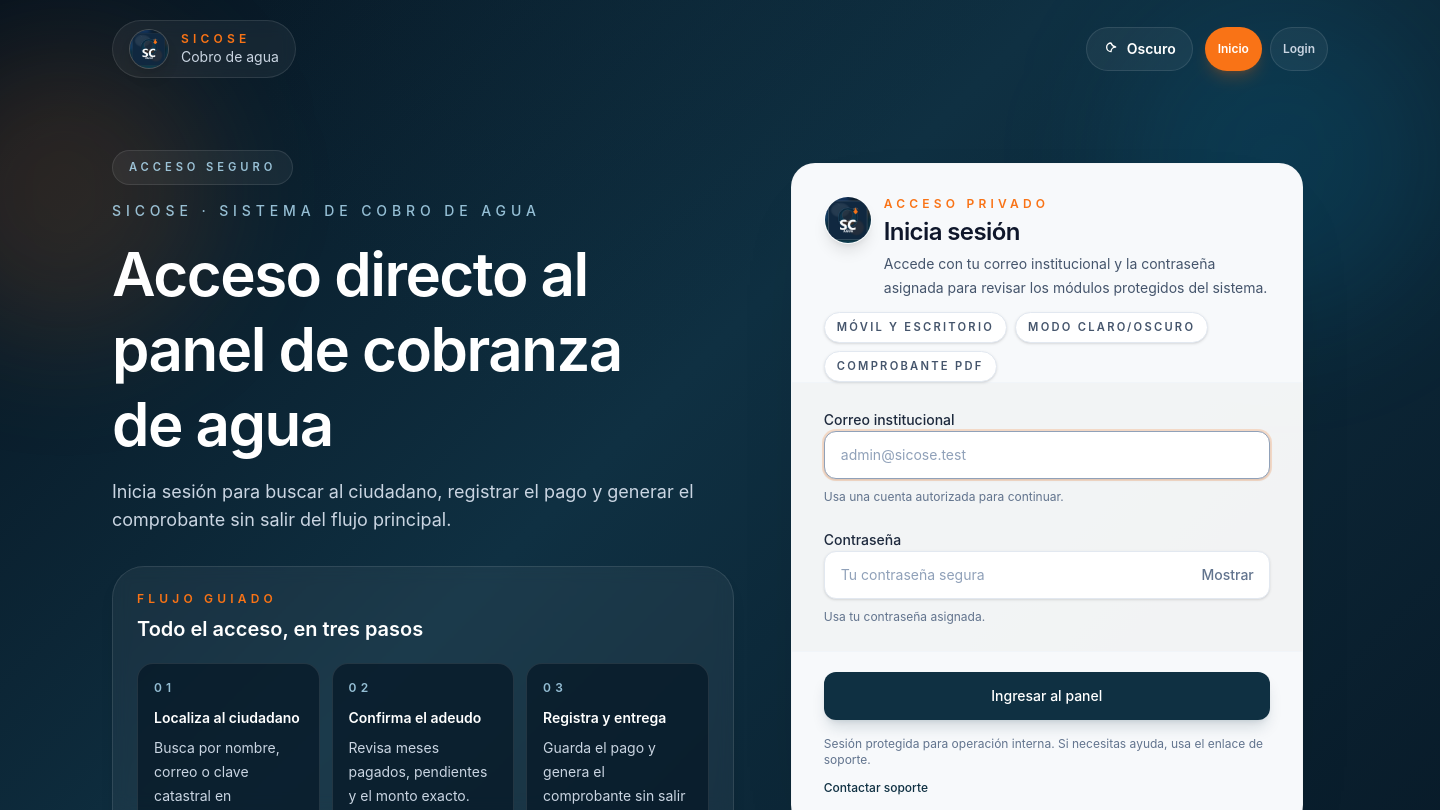
LoginPage › submits credentials and stores the auth session
Type "ADMIN@SICOSE.TEST" into the field labelled "Correo institucional" at (1047,455), box [824, 431, 1270, 479]
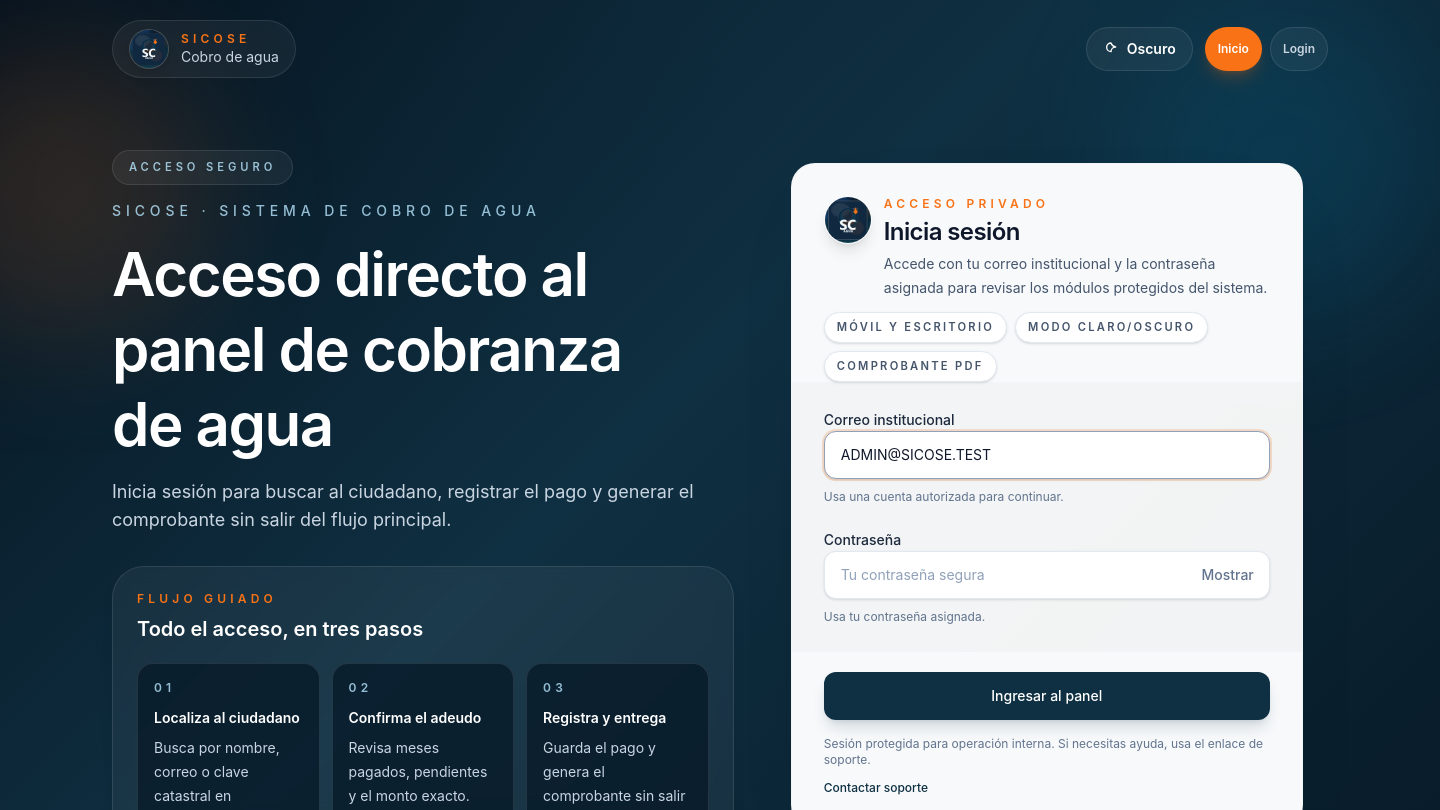
Type "SiCoSe2026!" into the password field labelled "Contraseña" at (1047,575), box [824, 551, 1270, 599]
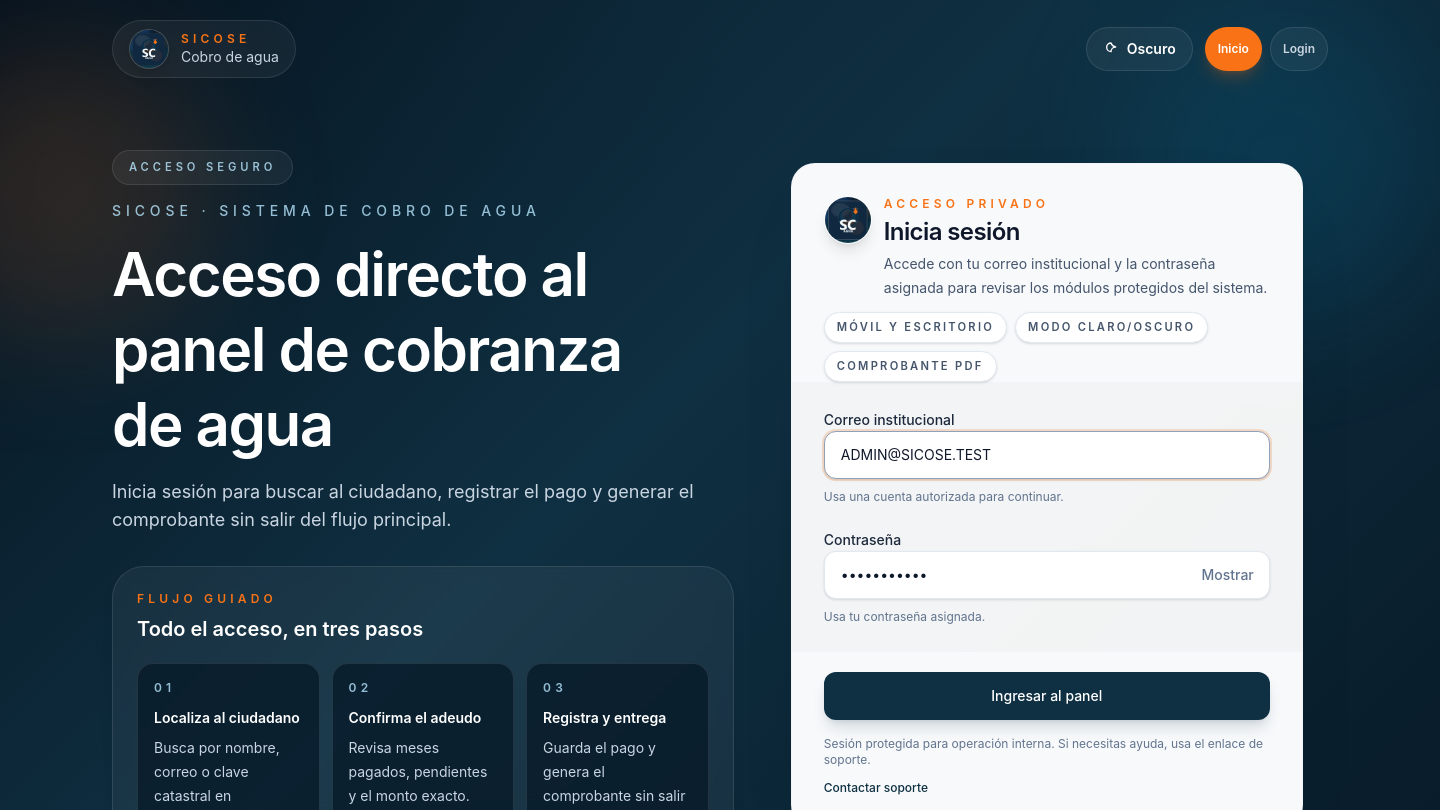
Click the button "Ingresar al panel" at (1047,696), box [824, 672, 1270, 720]
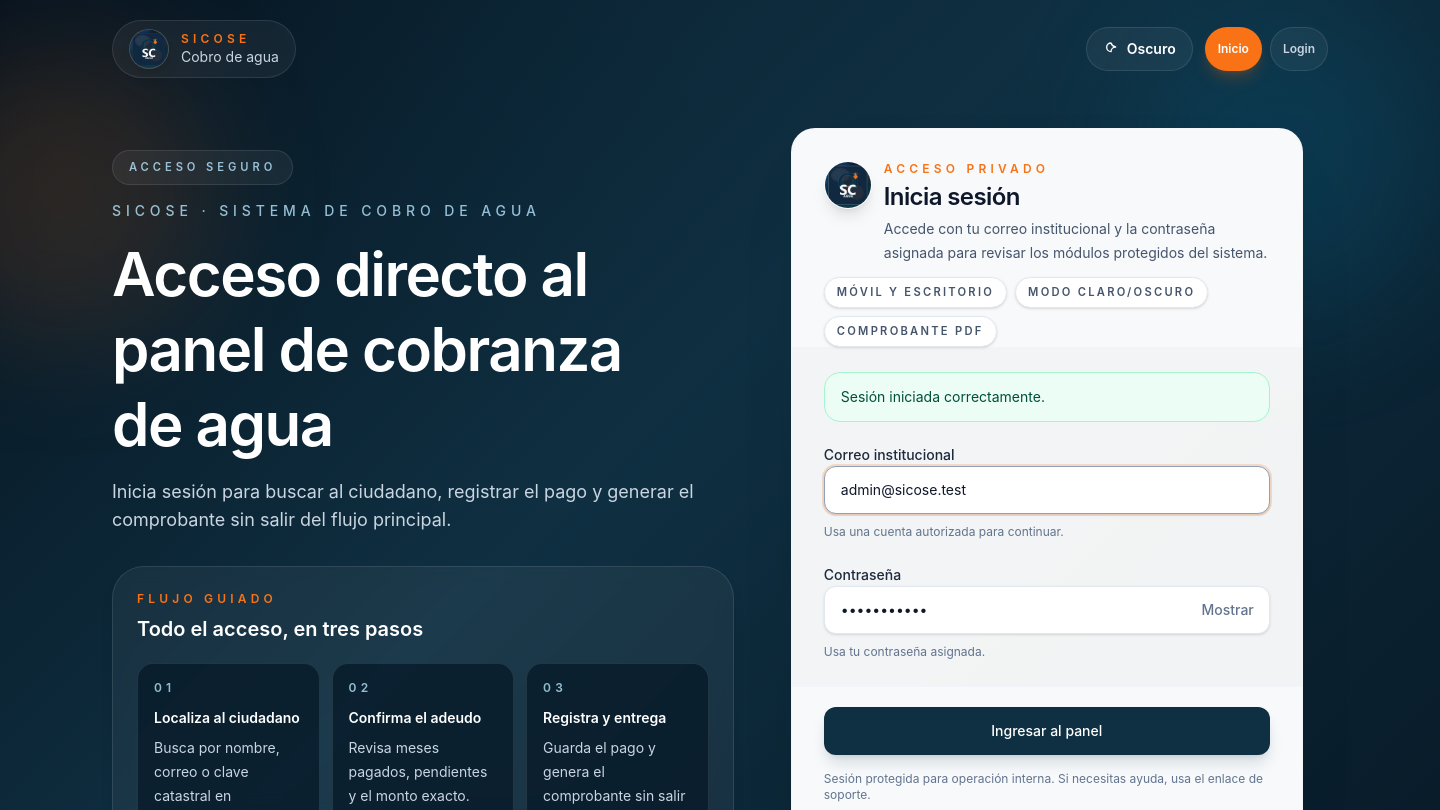
Now the message reads "Sesión iniciada correctamente.", box [841, 388, 1045, 405]
